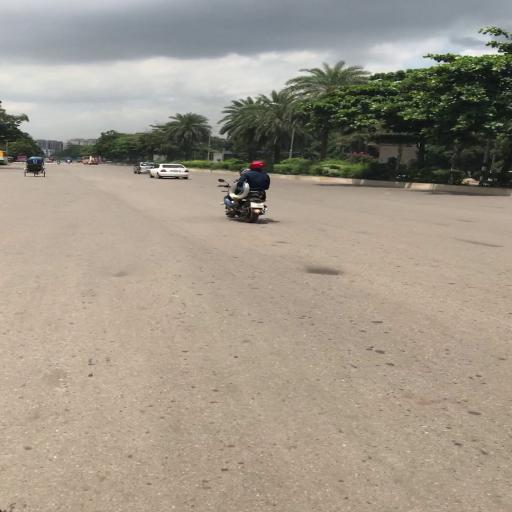bus: (81, 157, 102, 166)
car: (149, 164, 191, 180), (132, 163, 153, 175)
motorbike: (218, 178, 274, 225)
rickshaw: (24, 157, 48, 179), (56, 160, 62, 166)
